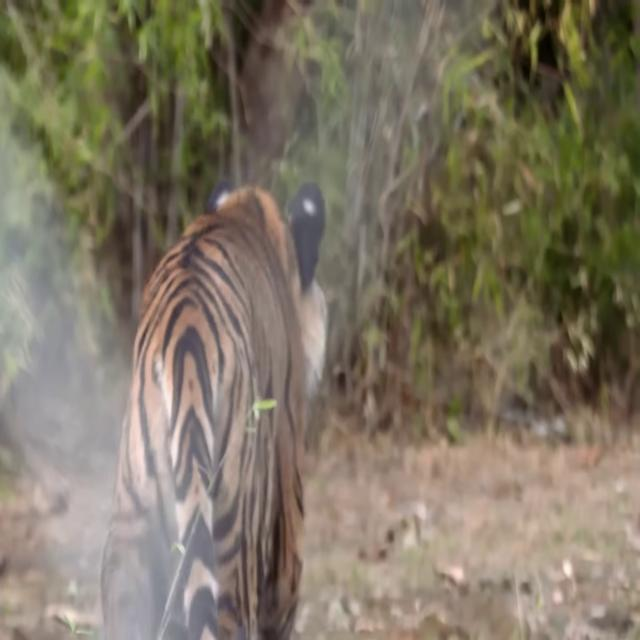tiger: (99, 176, 328, 640)
